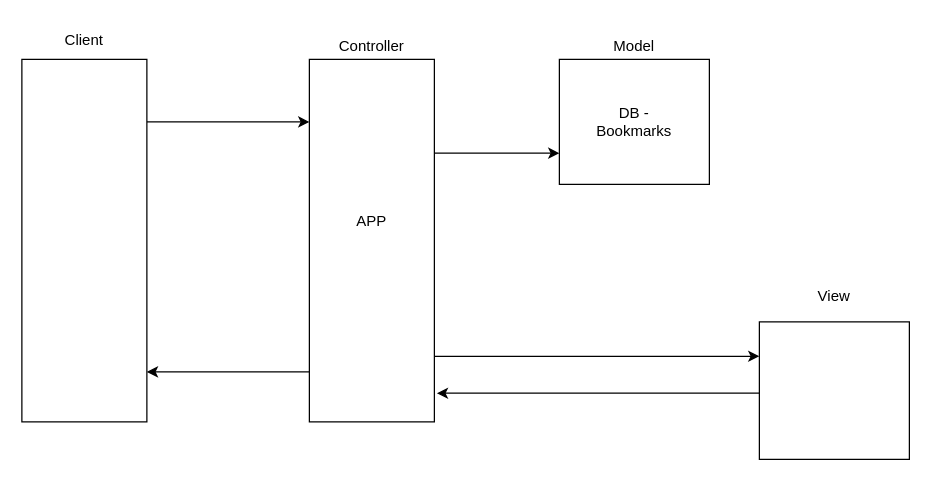
Some shapes in this 931 by 481 pixel diagram are drawn without their labels. The box of each missing label's shape, as (x1, y1, x2, y2) in pixels:
Bookmarks: (21, 58, 147, 422)
ERB - Bookmarks: (758, 321, 909, 459)
